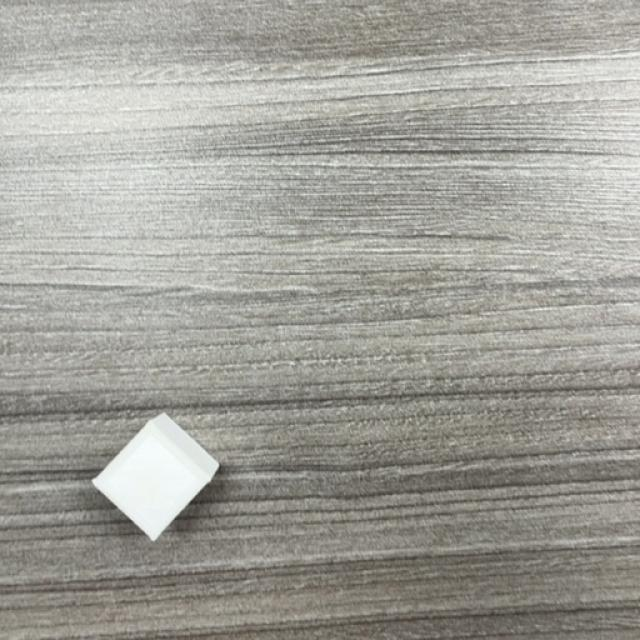Blanco: (89, 414, 220, 542)
